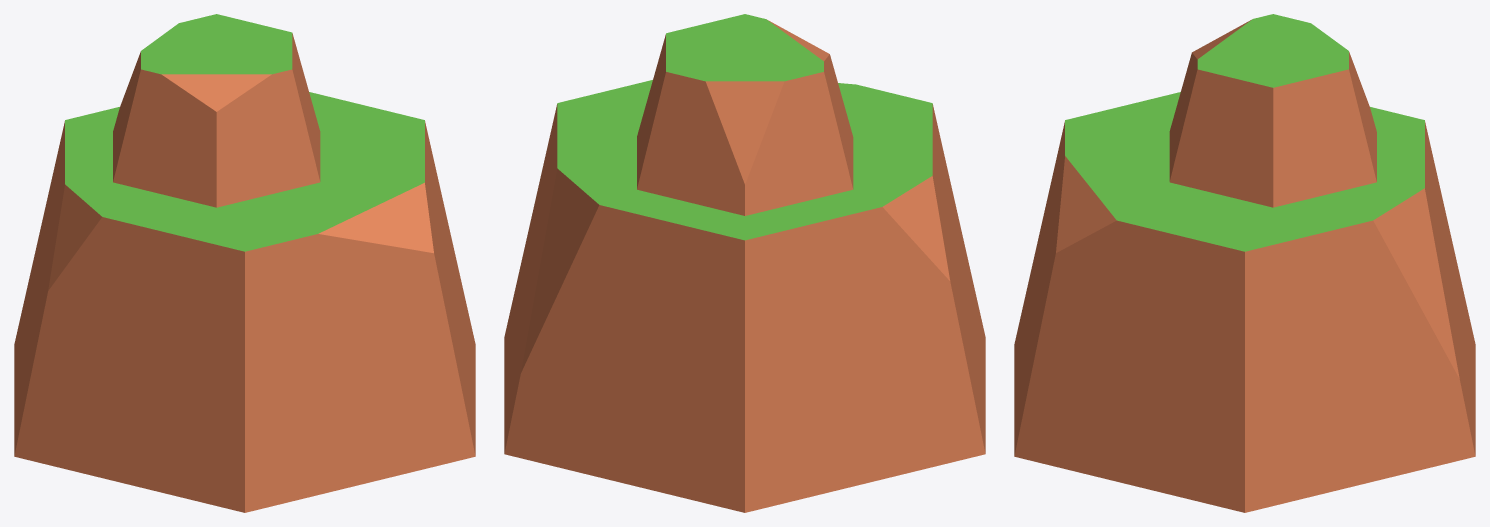
File: rock_smallE.glb
3 renders of one model, left to right at view 1: azimuth 30°, elevation 25°; view 2: azimuth 150°, elevation 25°; view 3: azimuth 270°, elevation 25°, orthographic. The views are drawn at different scales.
Visible parts, largest first — view 1: rock_smallE; view 2: rock_smallE; view 3: rock_smallE.
Boxes of the visible parts, x1,y1,x2,y2 form: rock_smallE: (14, 14, 475, 512); rock_smallE: (504, 14, 985, 512); rock_smallE: (1014, 14, 1475, 512).
Bounding box in the file's own units: 0.3608 × 0.2562 × 0.3125.
